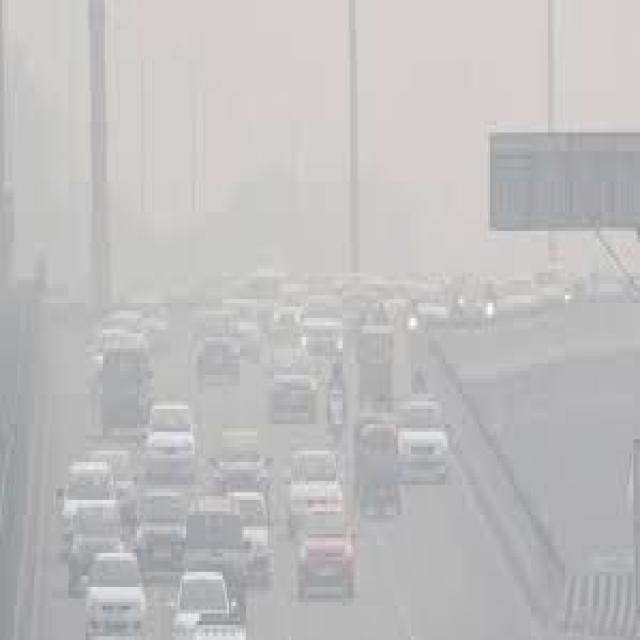moderate_traffic: (57, 276, 449, 640)
